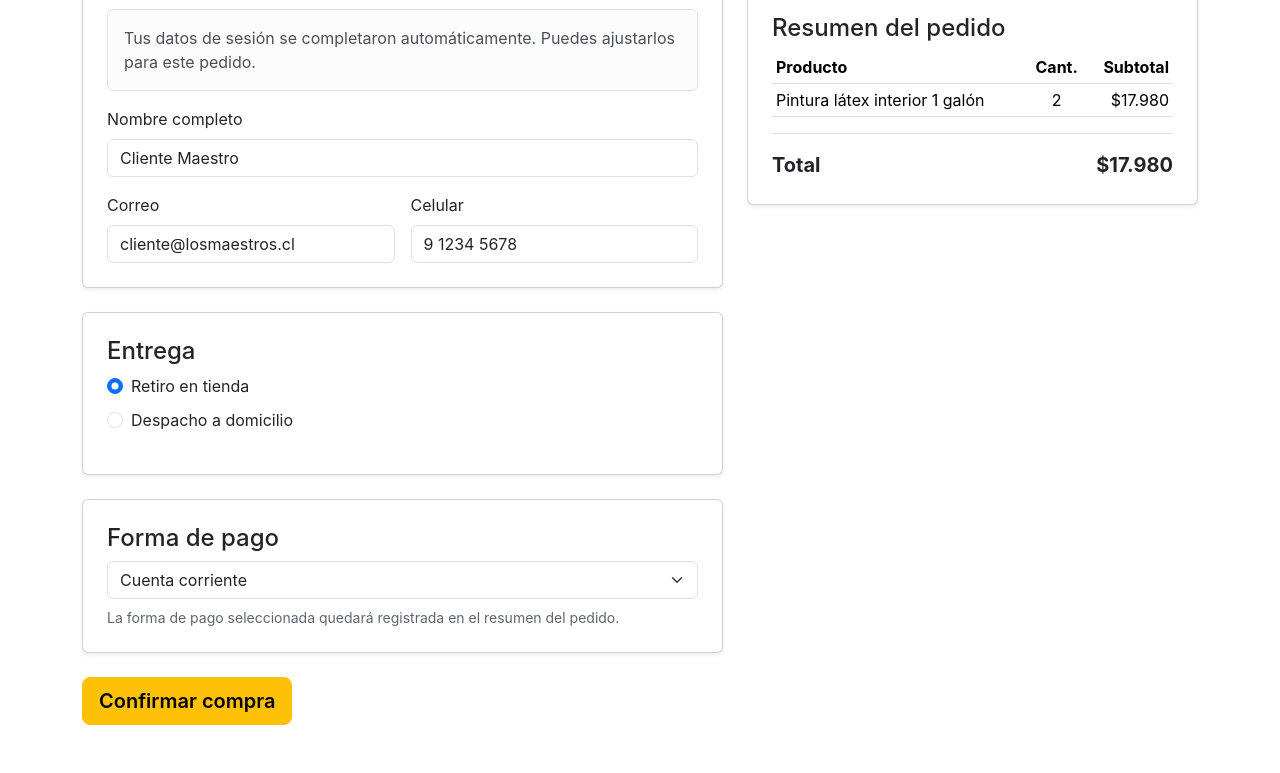
Test: Integrante 2 - Checkout y confirmación › 19. calcula el total usando la oferta, registra la boleta en la API, vacía el carrito y muestra la confirmación
The width and height of the screenshot is (1280, 773).
(page scrolled)
Expected: the text "$17.980" is shown 2 times, x1=1086 y1=83 x2=1173 y2=116; x1=1096 y1=150 x2=1173 y2=180
Click the button "Confirmar compra" at x=187, y=701, box x1=82 y1=677 x2=292 y2=725
(page scrolled)
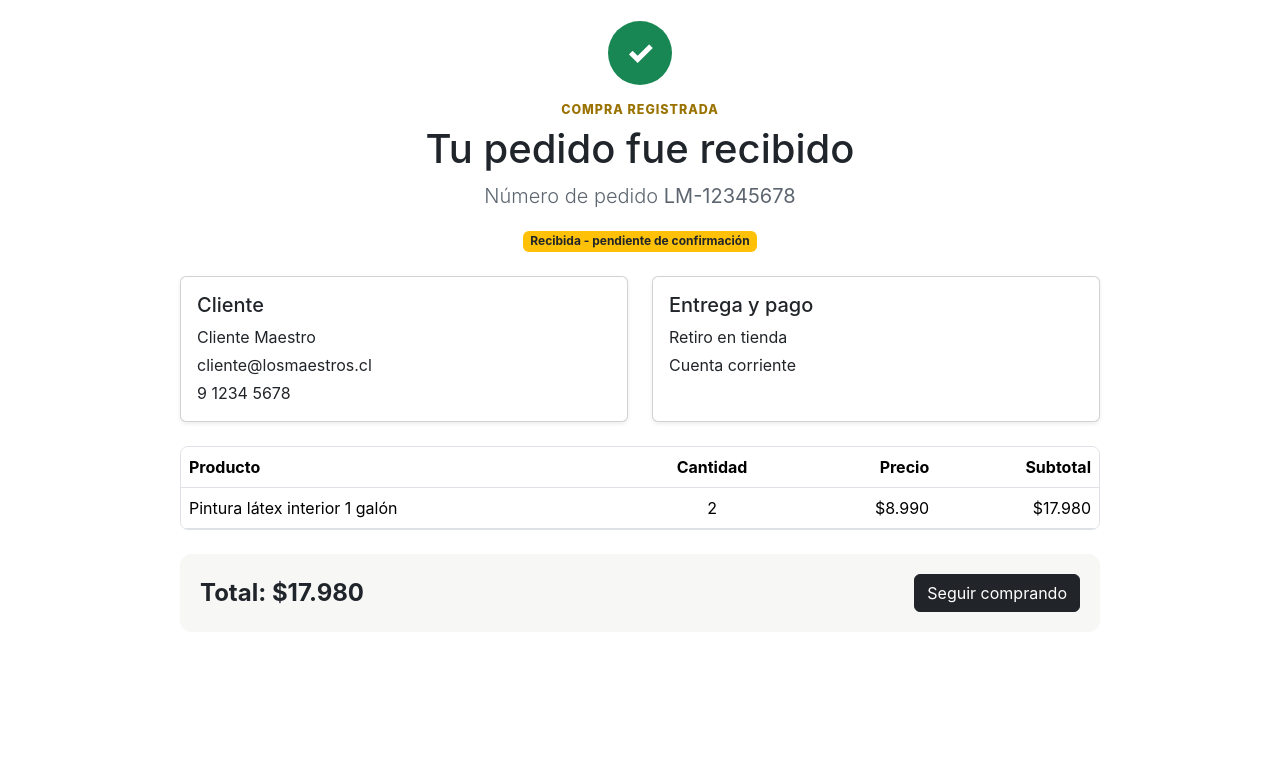
Expected: the heading "Tu pedido fue recibido" is shown, x1=426 y1=124 x2=854 y2=173
Expected: the text "LM-12345678" is shown, x1=664 y1=184 x2=796 y2=208
Expected: the text "Cuenta corriente" is shown, x1=669 y1=354 x2=796 y2=374
